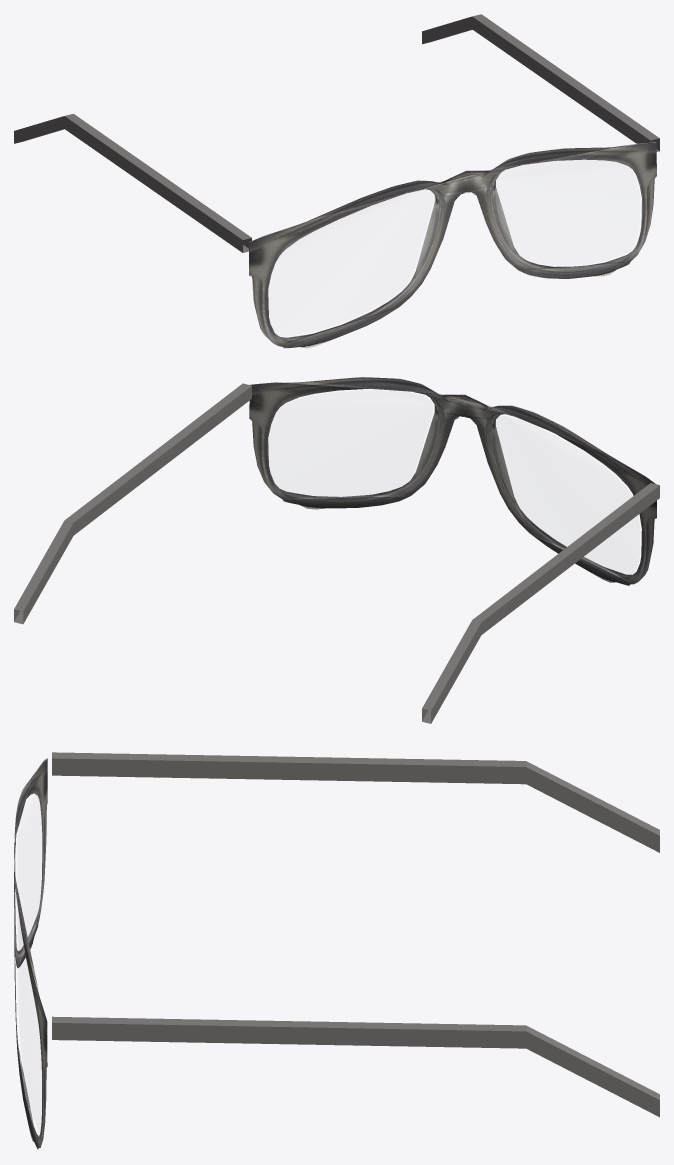
The model's file is gothamstyle-flex-matte-32_matte-gray.glb.
3 views of the same model, one above another, from view 1: azimuth 30°, elevation 25°; view 2: azimuth 150°, elevation 25°; view 3: azimuth 270°, elevation 25° (orthographic). The views are drawn at different scales.
Visible parts, largest first — view 1: frame_front, temple_viewer_left, temple_viewer_right; view 2: frame_front, temple_viewer_right, temple_viewer_left; view 3: temple_viewer_right, temple_viewer_left, frame_front.
Boxes of the visible parts, x1=… form: frame_front: x1=249, y1=142, x2=656, y2=348; temple_viewer_left: x1=14, y1=113, x2=251, y2=252; temple_viewer_right: x1=422, y1=14, x2=659, y2=151; frame_front: x1=249, y1=377, x2=656, y2=585; temple_viewer_right: x1=14, y1=383, x2=251, y2=624; temple_viewer_left: x1=422, y1=483, x2=659, y2=723; temple_viewer_right: x1=52, y1=1016, x2=659, y2=1117; temple_viewer_left: x1=52, y1=752, x2=659, y2=852; frame_front: x1=14, y1=758, x2=47, y2=1149.
Size of the model in its own units: 0.1347 by 0.0454 by 0.136.
3 materials, 2 textured.
